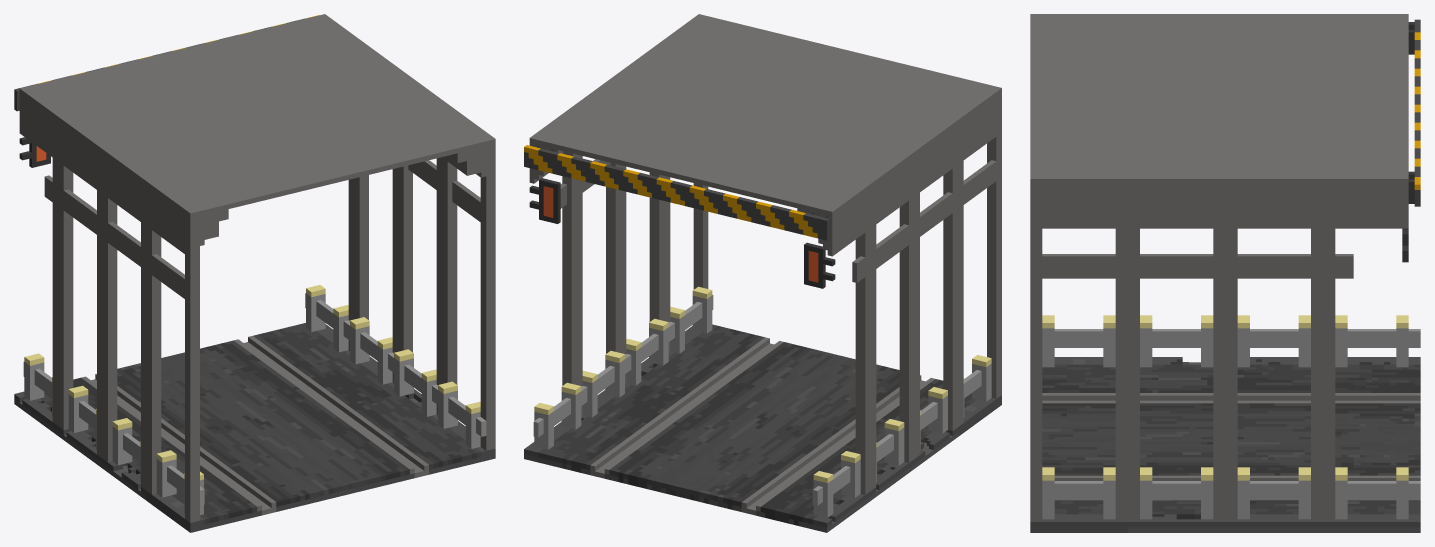
The model's file is MapFinalV1-79.obj.
The picture shows the model from 3 angles, left to right: view 1: azimuth 30°, elevation 25°; view 2: azimuth 150°, elevation 25°; view 3: azimuth 270°, elevation 25°; orthographic projection. The views are drawn at different scales.
Bounding box in the file's own units: 6.4 × 6.4 × 6.4.
Materials: 1 (1 with a texture image).
